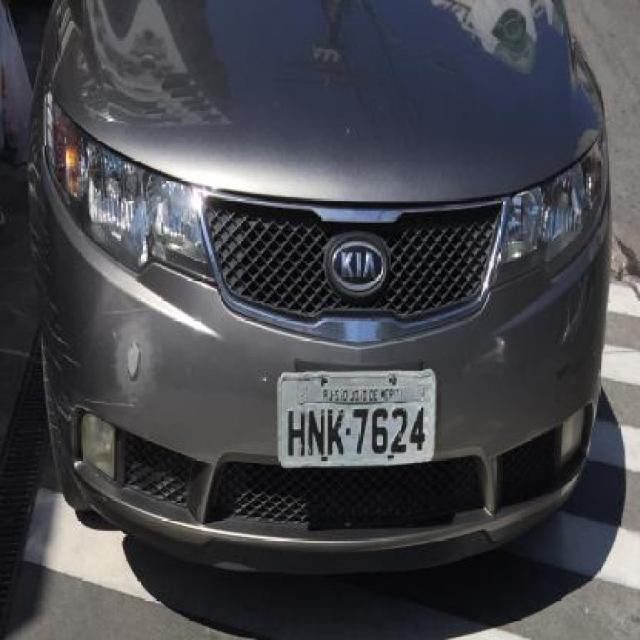old_plate: (273, 366, 442, 474)
